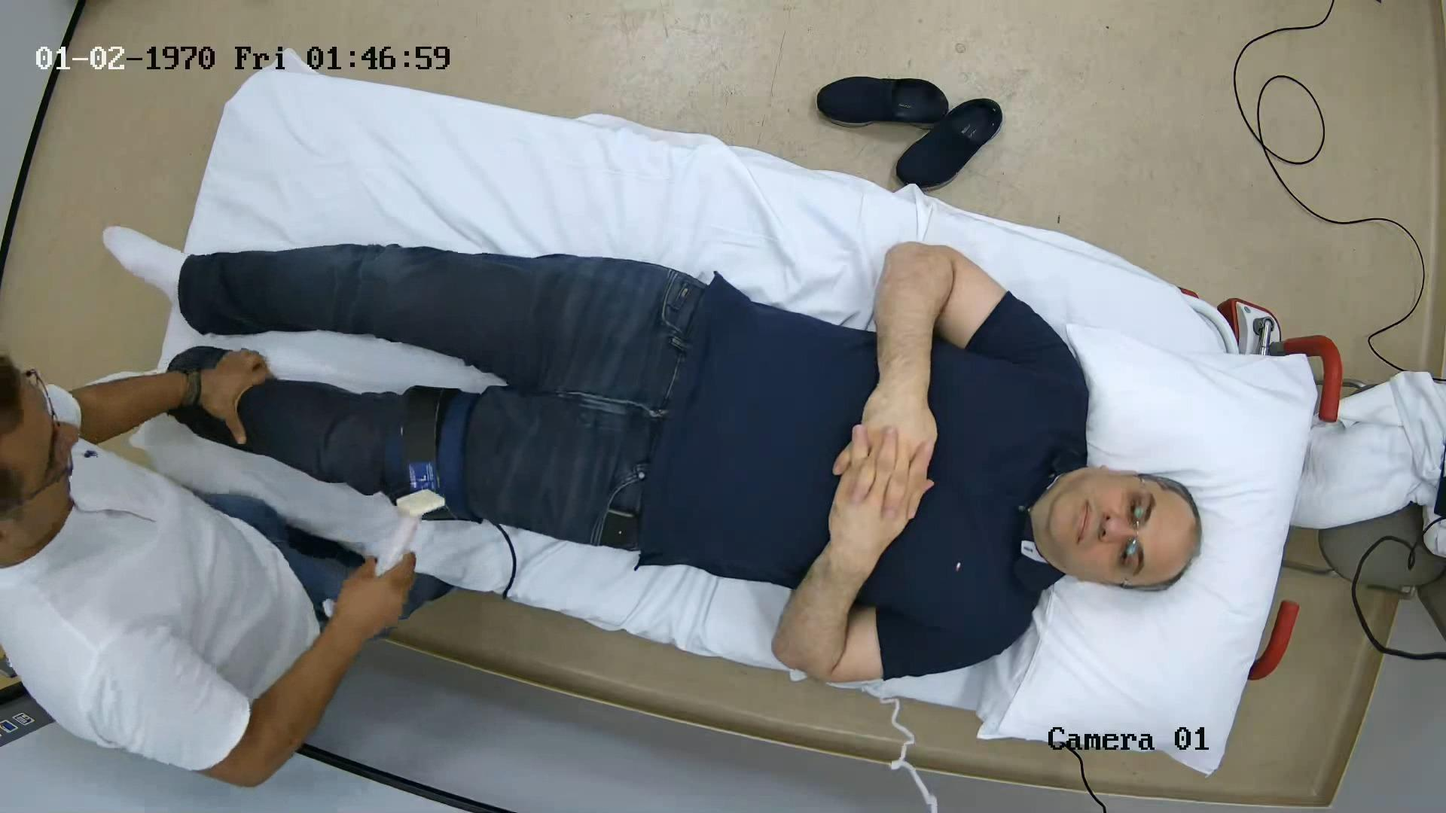bed: (134, 61, 1341, 772)
patient: (171, 244, 1200, 682)
prepstick: (376, 488, 445, 573)
tourniquet: (383, 386, 480, 521)
